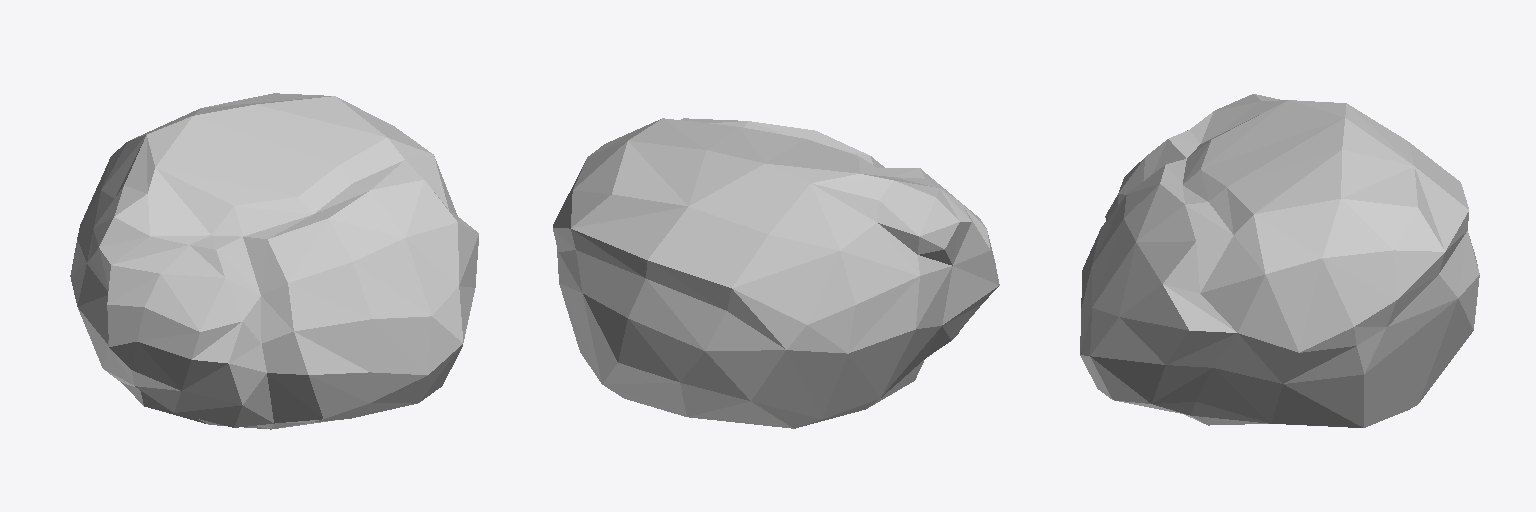
The model's file is Rocks_03.obj.
3 renders of one model, left to right at view 1: azimuth 30°, elevation 25°; view 2: azimuth 150°, elevation 25°; view 3: azimuth 270°, elevation 25°, orthographic.
Visible parts, largest first — view 1: Rock02_LP.001; view 2: Rock02_LP.001; view 3: Rock02_LP.001.
Boxes of the visible parts, x1=… form: Rock02_LP.001: x1=70, y1=93, x2=478, y2=429; Rock02_LP.001: x1=553, y1=118, x2=999, y2=428; Rock02_LP.001: x1=1080, y1=94, x2=1479, y2=427.
Size of the model in its own units: 34.08 by 21.27 by 31.16.